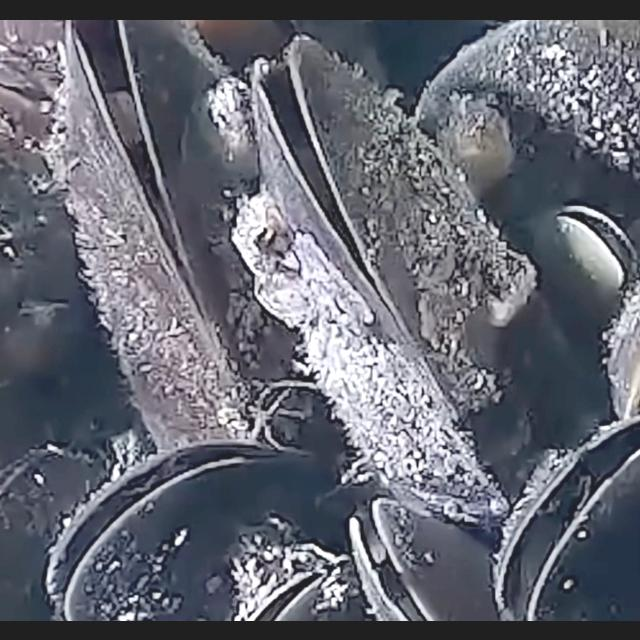Oyster-Closed: (413, 19, 640, 290), (0, 132, 84, 390)
Oyster-Open: (238, 32, 554, 522), (54, 19, 318, 455), (48, 438, 322, 620), (497, 416, 640, 620), (0, 444, 116, 620), (352, 496, 508, 620), (557, 201, 640, 293), (0, 36, 66, 144), (249, 562, 337, 620)
